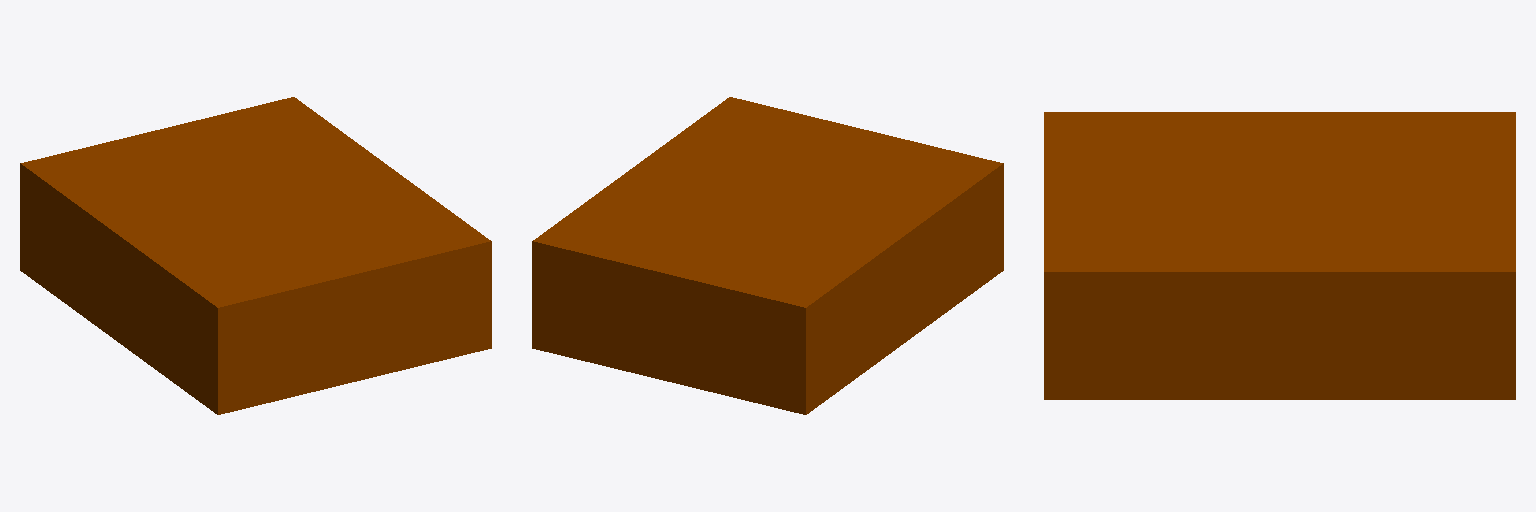
URDF robot description (cube):
<?xml version="1.0" ?>
<robot name="cube">
  <link name="cube_base_link">
    <contact>
      <restitution value="0.1"/>
      <lateral_friction value="1.0"/>
      <contact_cfm value="0.0"/>
      <contact_erp value="1.0"/>
    </contact>
    <inertial>
      <origin rpy="0 0 0" xyz="0 0 0"/>
       <mass value="0"/>
       <inertia ixx="1" ixy="0" ixz="0" iyy="1" iyz="0" izz="1"/>
    </inertial>
    <visual>
      <origin rpy="0 0 0" xyz="0 0 0"/>
      <geometry>
		<box size="0.32 0.4 0.12"/>
      </geometry>
       <material name="yellow">
        <color rgba="0.6 0.3 0 1"/>
      </material>
    </visual>
    <collision>
      <origin rpy="0 0 0" xyz="0 0 0"/>
      <geometry>
	 	<box size="0.32 0.4 0.12"/>
      </geometry>
    </collision>
  </link>
</robot>

--- Facts derived from the render (not from the file) ---
3 views of the same robot in one strip: view 1: azimuth 30°, elevation 25°; view 2: azimuth 150°, elevation 25°; view 3: azimuth 270°, elevation 25° (orthographic).
Robot: cube — 1 links, 0 joints (none); root link cube_base_link; default pose: every joint at zero.
Links seen in each view (by area): view 1: cube_base_link; view 2: cube_base_link; view 3: cube_base_link.
Link boxes in pixels (box(x1,y1,x2,y2)): cube_base_link: box(20, 97, 491, 414); cube_base_link: box(532, 97, 1003, 414); cube_base_link: box(1044, 112, 1515, 399).
Bounding box of the posed robot: 0.32 × 0.4 × 0.12 m (x, y, z).
Geometry: primitives only (box / cylinder / sphere), no mesh files.